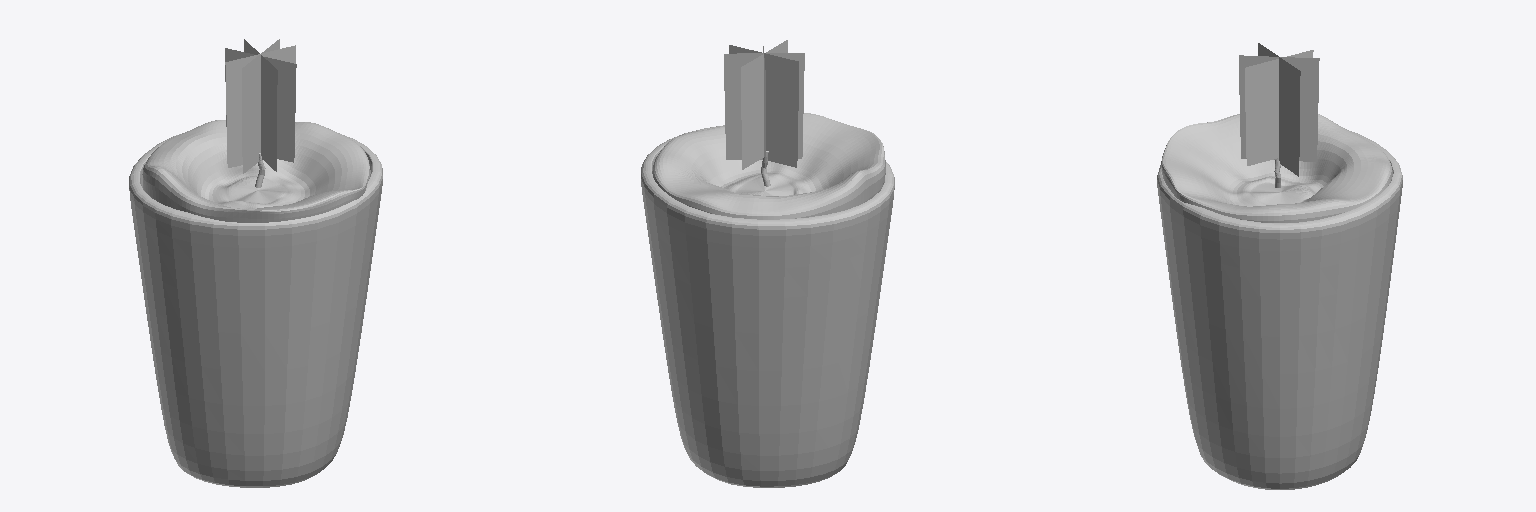
Rendered from vela_1.obj.
3 renders of one model, left to right at view 1: azimuth 30°, elevation 25°; view 2: azimuth 150°, elevation 25°; view 3: azimuth 270°, elevation 25°, orthographic.
Parts seen in each view (by area): view 1: Glass, Wax, candle flame; view 2: Glass, Wax, candle flame; view 3: Glass, Wax, candle flame.
Part boxes in pixels (bbox=[...]): Glass: bbox=[129, 133, 382, 487]; Wax: bbox=[142, 120, 370, 222]; candle flame: bbox=[225, 39, 296, 173]; Glass: bbox=[641, 125, 894, 487]; Wax: bbox=[652, 113, 885, 219]; candle flame: bbox=[724, 40, 804, 169]; Glass: bbox=[1157, 131, 1402, 489]; Wax: bbox=[1161, 114, 1392, 222]; candle flame: bbox=[1239, 43, 1319, 176].
Size of the model in its own units: 0.1612 by 0.275 by 0.1524.